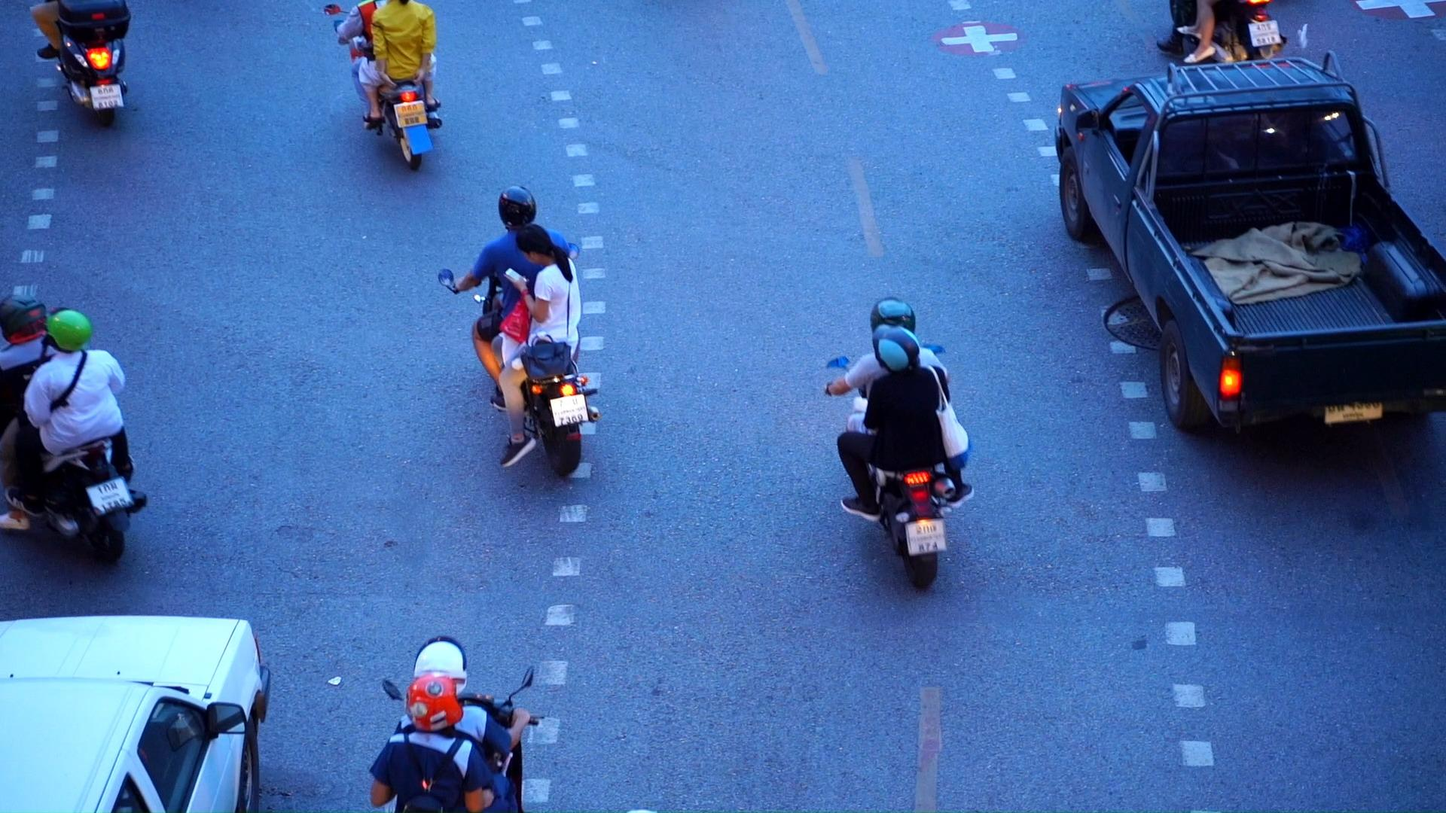driver: (437, 185, 600, 477), (823, 295, 977, 589), (0, 294, 146, 565), (369, 635, 545, 813), (324, 0, 442, 171), (30, 0, 132, 127), (1156, 0, 1288, 63)
helmet: (405, 672, 464, 733), (413, 635, 468, 697), (40, 306, 92, 354), (872, 324, 920, 374), (0, 294, 46, 345), (498, 185, 537, 233), (870, 295, 916, 335)
no-helmet: (516, 223, 570, 266)
